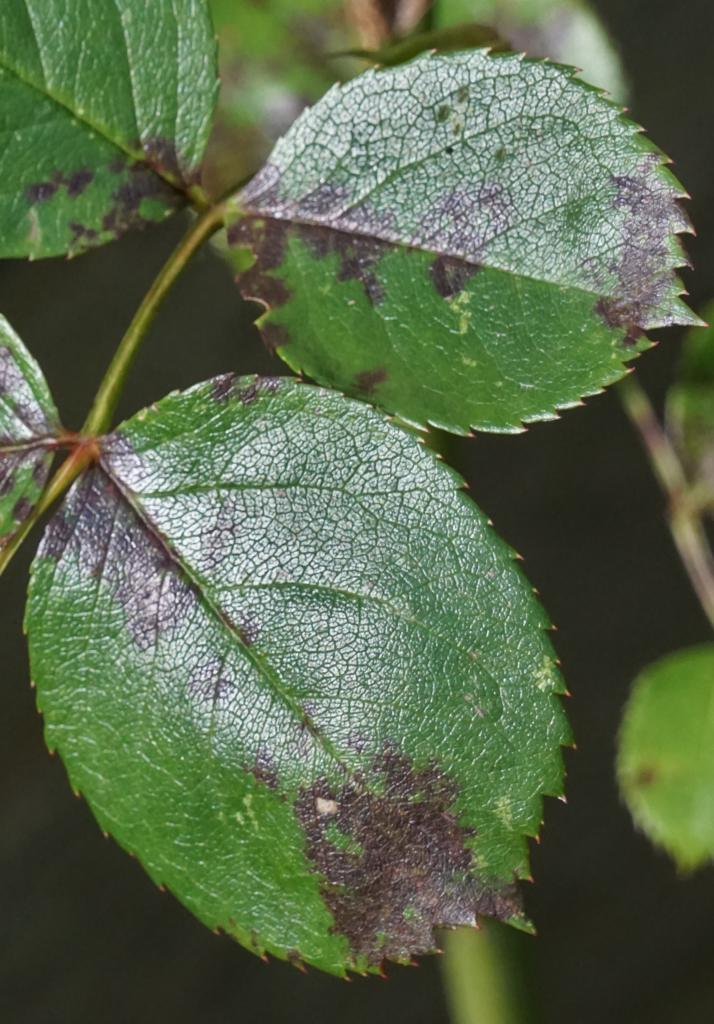unhealthy: (57, 413, 551, 971), (234, 60, 687, 429)
